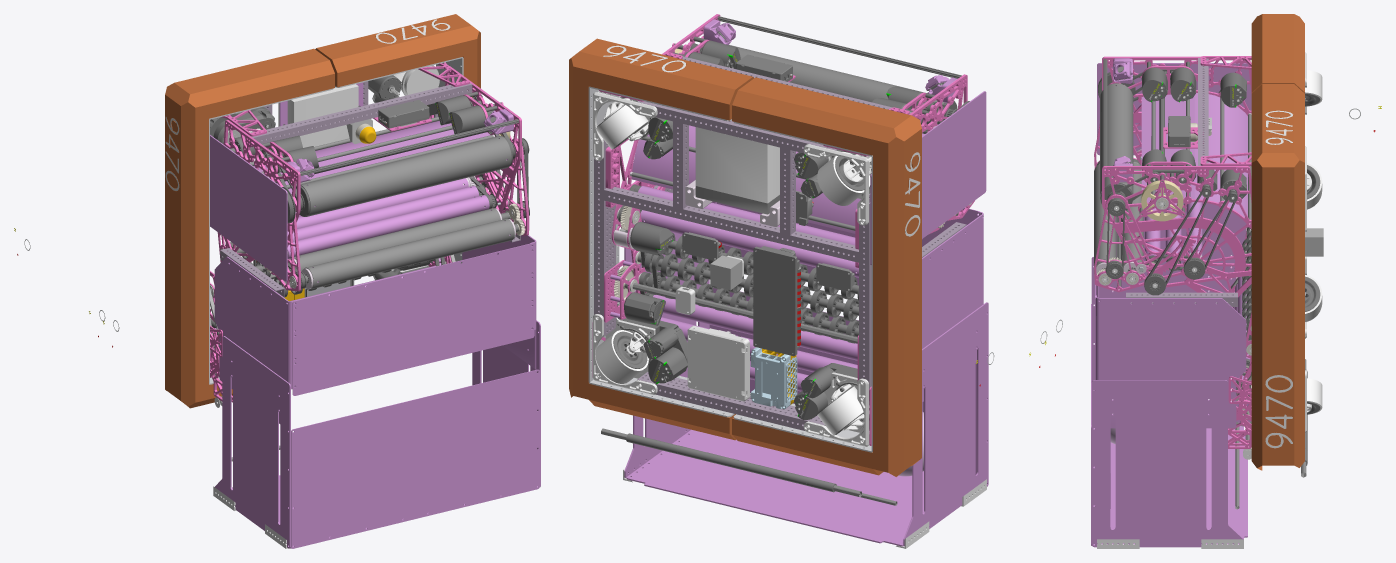
File: robot9470.glb
3 views of the same model, side by side, from view 1: azimuth 30°, elevation 25°; view 2: azimuth 150°, elevation 25°; view 3: azimuth 270°, elevation 25° (orthographic). The views are drawn at different scales.
Parts seen in each view (by area): view 1: extension ceiling, 9470-2026-DRI-FOAM (×4), hopper ceiling flat, horiz extension (×2), 9470-2026-SHO-SILICONE-HOOD (×2), 9470-2026-DRI-POLY125-SIDEGUARD, 9470-2026-SHO-POLY125-FEEDERROLLER (×3), 9470-2026-SHO-SILICONE-DRUM, main bent r, 9470-2026-SHO-ALU25-MAIN (×2), Tube 1"x1"x24", 9470-2026-SHO-POLY125-RAMP (+11 smaller); view 2: 9470-2026-DRI-FOAM (×6), horiz extension front, horiz extension (×2), Tube 2"x1"x18.5" (×4), tubge (×4), 9470-2026-DRI-POLY125-SIDEGUARD, Robot Battery, main bent r, SDS MK5 Molded Wheel (×4), 9470-2026-DRI-ALU125-BACKING (×2), Simplified PDP 2.0, Kraken X60 Brushless Motor (×5) (+19 smaller); view 3: 9470-2026-DRI-FOAM (×4), horiz extension (×2), main bent l, 9470-2026-SHO-ALU25-MAIN (×2), 9470-2026-SHO-POLY125-RAMP, main bent r, horiz extension front, 9470-2026-SHO-SILICONE-DRUM, Kraken X60 Brushless Motor-Mirrored (×3), 9470-2026-SHO-ALU25-HOOD, SDS MK5 Molded Wheel (×4), 9470-2026-SHO-SILICONE-HOOD (×2) (+17 smaller).
Part boxes in pixels (left/top/right/bottom): extension ceiling: left=291, top=369, right=539, bottom=548; 9470-2026-DRI-FOAM (×4): left=165, top=14, right=480, bottom=408; hopper ceiling flat: left=292, top=243, right=534, bottom=395; horiz extension (×2): left=215, top=320, right=540, bottom=548; 9470-2026-SHO-SILICONE-HOOD (×2): left=294, top=208, right=514, bottom=289; 9470-2026-DRI-POLY125-SIDEGUARD: left=210, top=135, right=287, bottom=281; 9470-2026-SHO-POLY125-FEEDERROLLER (×3): left=287, top=178, right=489, bottom=258; 9470-2026-SHO-SILICONE-DRUM: left=300, top=136, right=511, bottom=216; main bent r: left=214, top=256, right=295, bottom=423; 9470-2026-SHO-ALU25-MAIN (×2): left=223, top=66, right=521, bottom=274; Tube 1"x1"x24": left=251, top=83, right=472, bottom=147; 9470-2026-SHO-POLY125-RAMP: left=253, top=120, right=490, bottom=194; 9470-2026-DRI-FOAM (×6): left=569, top=38, right=921, bottom=476; horiz extension front: left=626, top=429, right=923, bottom=546; horiz extension (×2): left=624, top=261, right=988, bottom=545; Tube 2"x1"x18.5" (×4): left=594, top=101, right=871, bottom=430; tubge (×4): left=638, top=186, right=858, bottom=372; 9470-2026-DRI-POLY125-SIDEGUARD: left=870, top=91, right=986, bottom=265; Robot Battery: left=695, top=127, right=779, bottom=214; main bent r: left=922, top=211, right=983, bottom=401; SDS MK5 Molded Wheel (×4): left=595, top=100, right=870, bottom=435; 9470-2026-DRI-ALU125-BACKING (×2): left=588, top=86, right=872, bottom=452; Simplified PDP 2.0: left=753, top=246, right=800, bottom=356; Kraken X60 Brushless Motor (×5): left=617, top=40, right=827, bottom=419; 9470-2026-DRI-FOAM (×4): left=1251, top=14, right=1304, bottom=470; horiz extension (×2): left=1091, top=257, right=1243, bottom=547; main bent l: left=1095, top=295, right=1246, bottom=428; 9470-2026-SHO-ALU25-MAIN (×2): left=1102, top=56, right=1251, bottom=287; 9470-2026-SHO-POLY125-RAMP: left=1141, top=93, right=1247, bottom=217; main bent r: left=1096, top=203, right=1246, bottom=300; horiz extension front: left=1091, top=426, right=1247, bottom=545; 9470-2026-SHO-SILICONE-DRUM: left=1100, top=83, right=1133, bottom=204; Kraken X60 Brushless Motor-Mirrored (×3): left=1141, top=67, right=1381, bottom=132; 9470-2026-SHO-ALU25-HOOD: left=1094, top=194, right=1195, bottom=292; SDS MK5 Molded Wheel (×4): left=1305, top=70, right=1322, bottom=414; 9470-2026-SHO-SILICONE-HOOD (×2): left=1094, top=162, right=1143, bottom=273.
Size of the model in its own units: 1.13 by 1.06 by 0.693.
